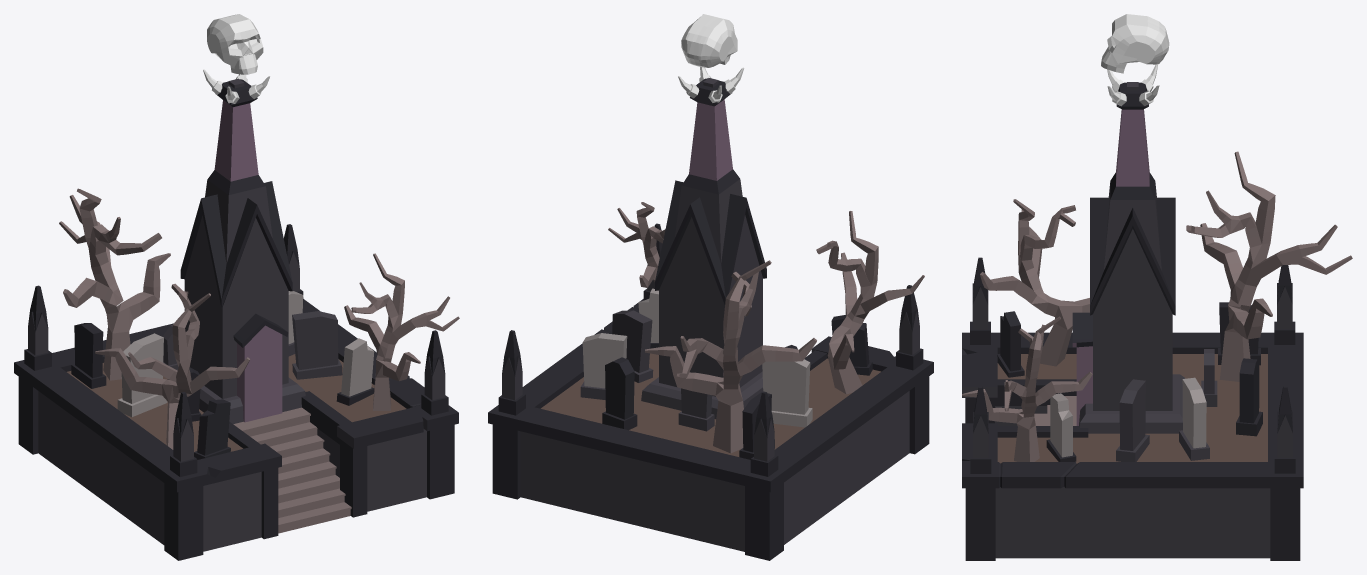
File: new Graveyard.fbx
3 renders of one model, left to right at view 1: azimuth 30°, elevation 25°; view 2: azimuth 150°, elevation 25°; view 3: azimuth 270°, elevation 25°, orthographic. The views are drawn at different scales.
Parts seen in each view (by area): view 1: Cube.042, Cube.041; view 2: Cube.042, Cube.041; view 3: Cube.042, Cube.041.
Part boxes in pixels (bbox=[...]): Cube.042: bbox=[14, 69, 459, 560]; Cube.041: bbox=[207, 14, 263, 74]; Cube.042: bbox=[488, 67, 933, 560]; Cube.041: bbox=[681, 14, 737, 67]; Cube.042: bbox=[962, 64, 1352, 560]; Cube.041: bbox=[1101, 14, 1169, 73].
Bounding box in the file's own units: 1138 × 1511 × 1136.
